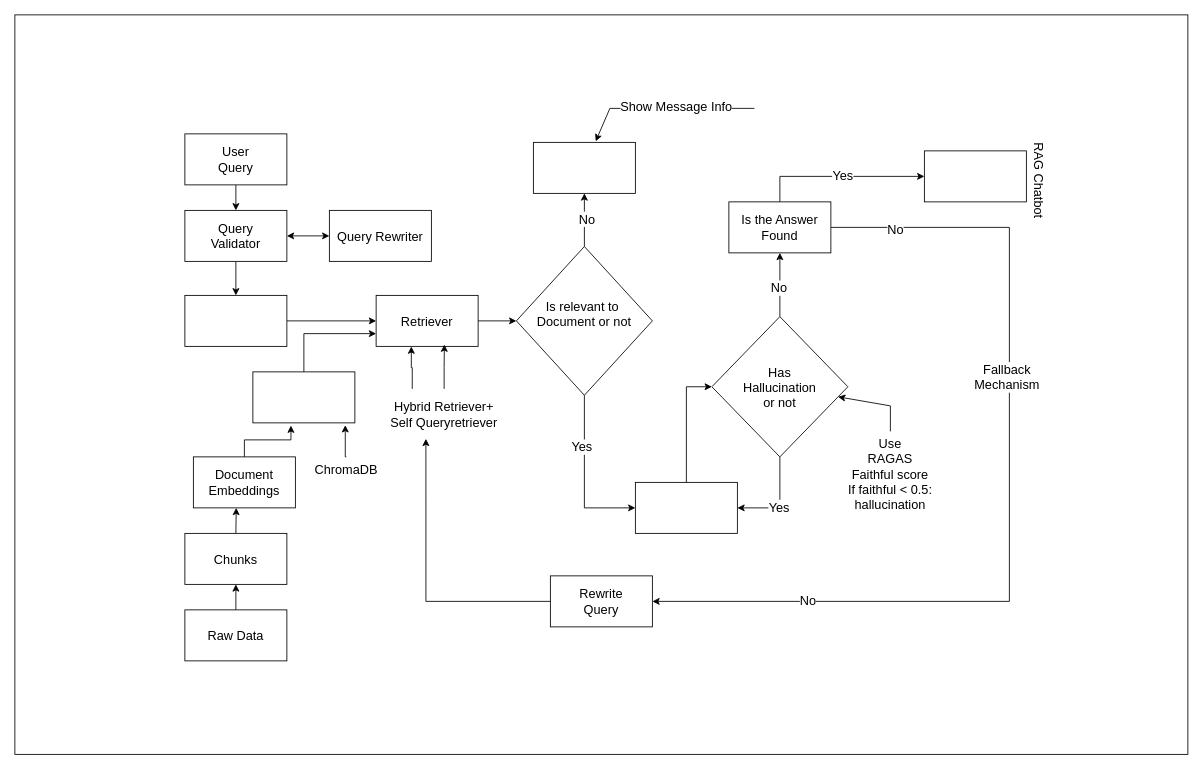
This 1203x769 diagram has some shape labels left out. The centre of each missing label's shape, as x and y in pixels:
"Embeddings" goes at point 235,320.
"Generator" goes at point 686,507.
"No Result" goes at point 584,167.
"Resul t" goes at point 975,176.
"Vector Store" goes at point 303,397.
